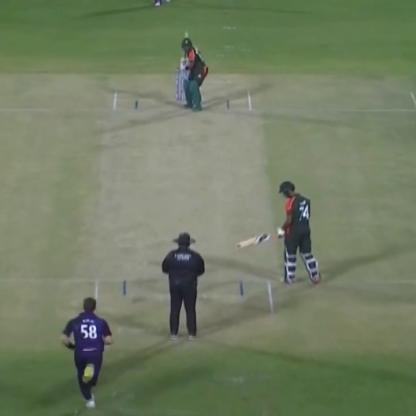bat: (176, 30, 193, 76)
pitch: (92, 84, 276, 319)
